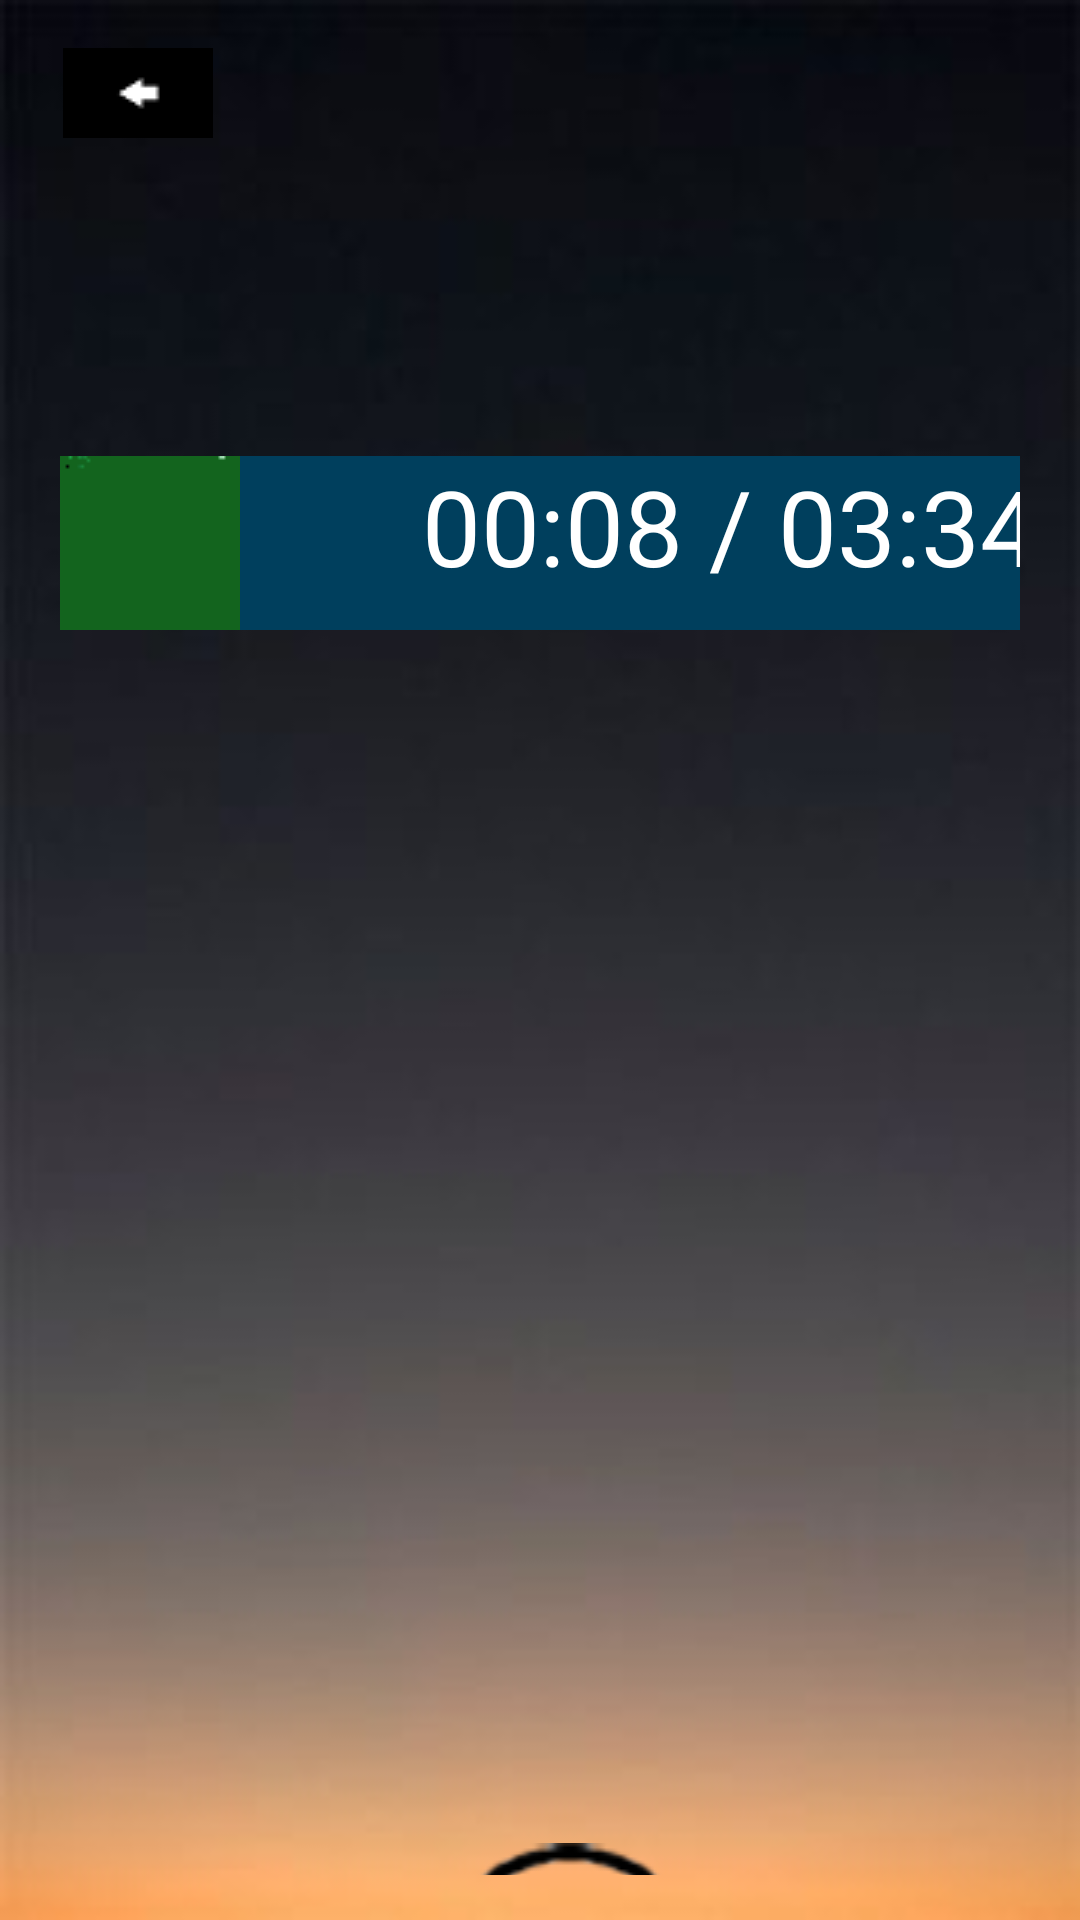

Screen size 1080*1920. Icon name, then its center in pixels as (x,y):
flecha: (139,93)
